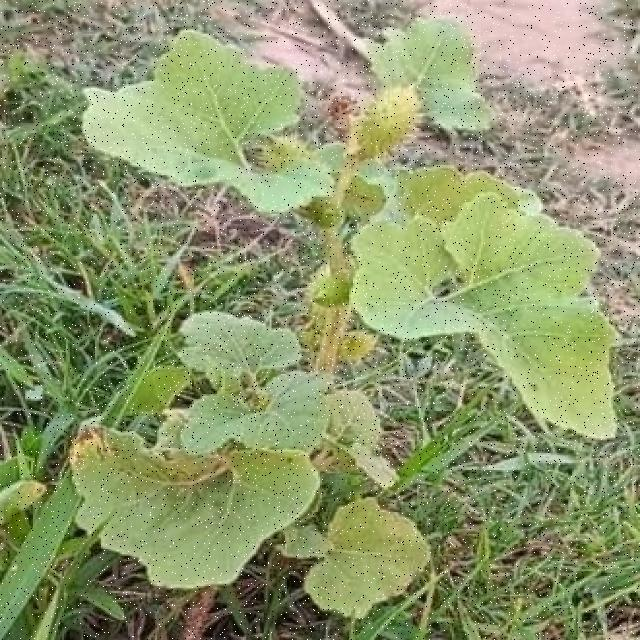weed: (351, 194, 617, 439)
